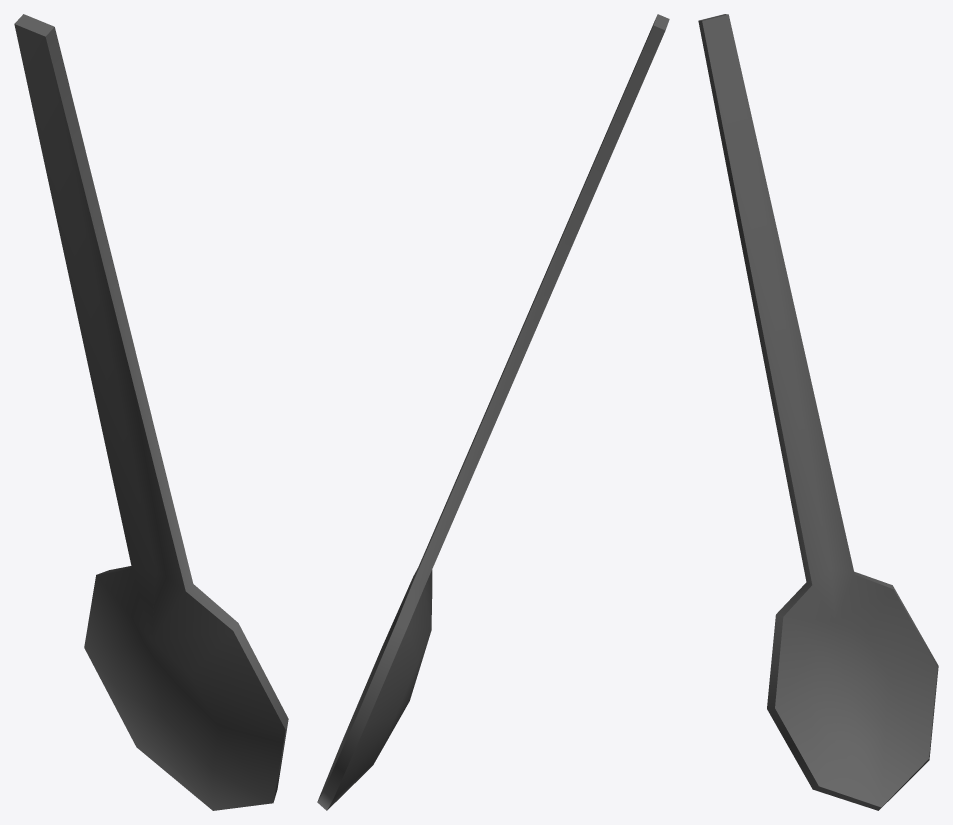
Rendered from Hea_Player_Spoon.fbx.
3 views of the same model, side by side, from view 1: azimuth 30°, elevation 25°; view 2: azimuth 150°, elevation 25°; view 3: azimuth 270°, elevation 25° (orthographic). The views are drawn at different scales.
Visible parts, largest first — view 1: Spoon; view 2: Spoon; view 3: Spoon.
Boxes of the visible parts, <box> form: Spoon: <box>14,14,288,810</box>; Spoon: <box>317,14,669,810</box>; Spoon: <box>698,14,938,810</box>.
Bounding box in the file's own units: 4.8 × 13.22 × 4.16.
